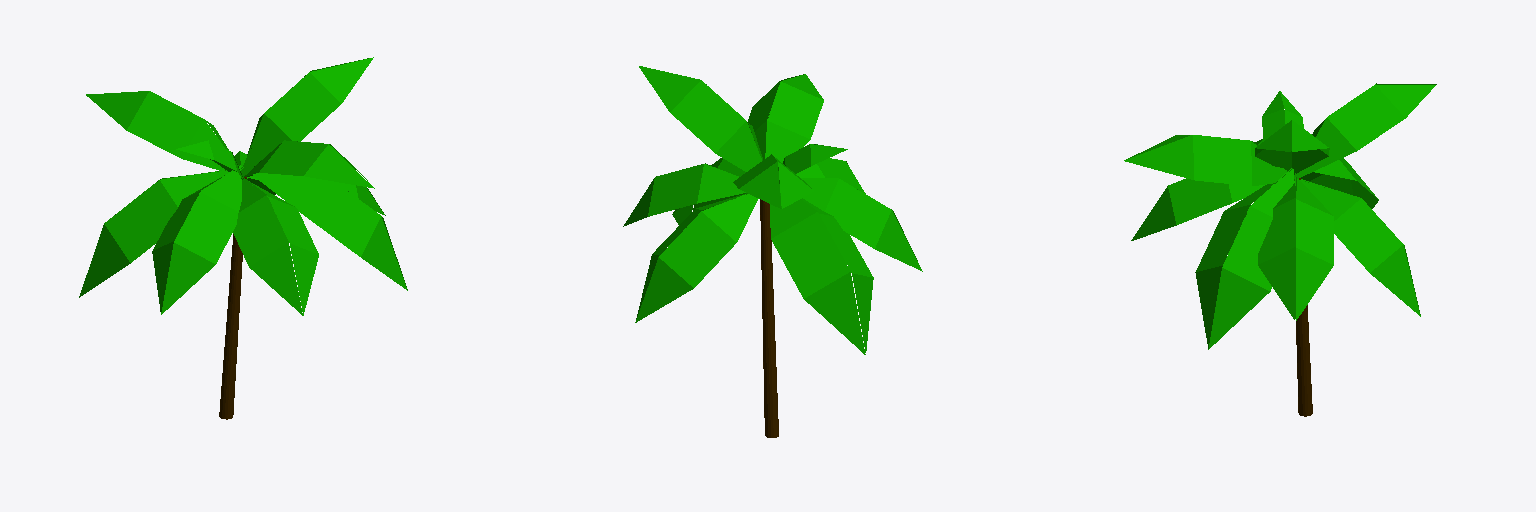
The model's file is palmtree.obj.
3 views of the same model, side by side, from view 1: azimuth 30°, elevation 25°; view 2: azimuth 150°, elevation 25°; view 3: azimuth 270°, elevation 25° (orthographic).
Bounding box in the file's own units: 21.66 × 24.95 × 21.4.